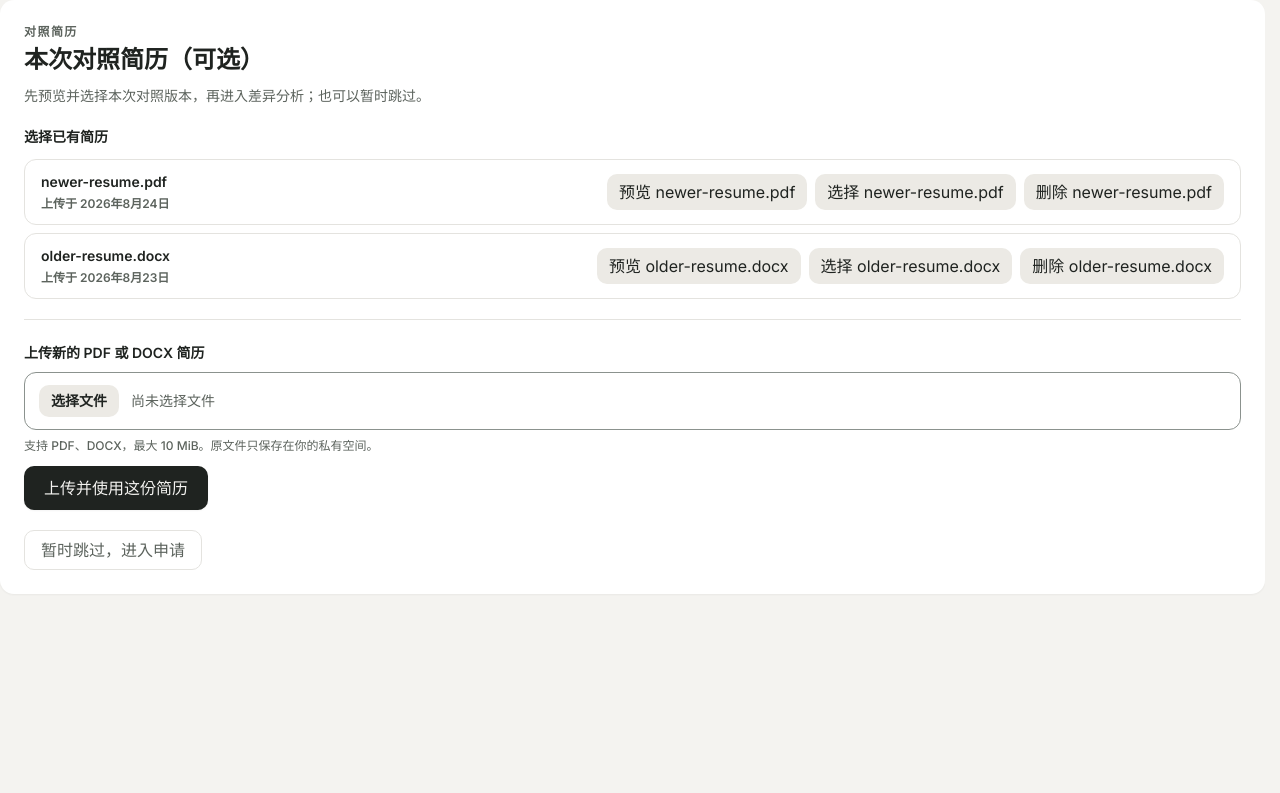
Scenario: BaselineSelector › passes each file's own usage counts into its confirmation
Click the button "删除 older-resume.docx".
click(1122, 266)  # box [1020, 248, 1224, 284]
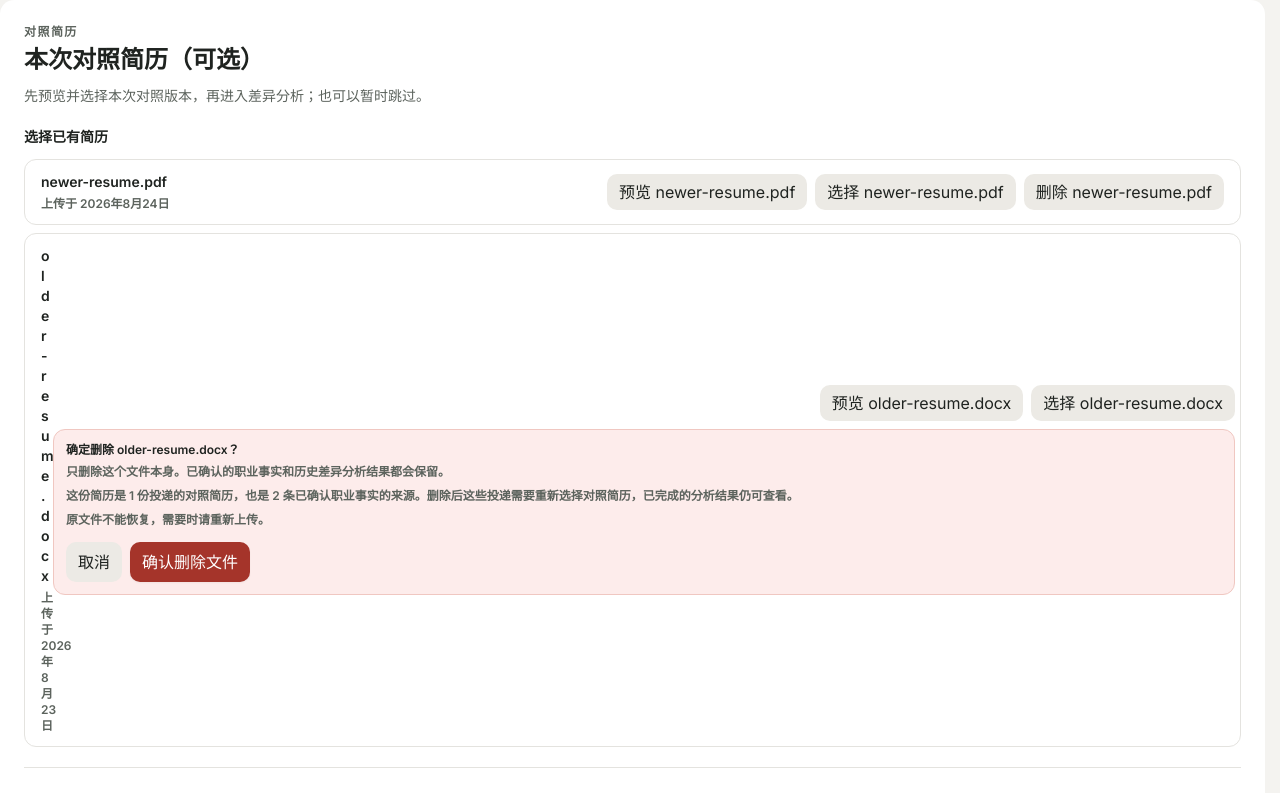
Result: the message shows "这份简历是 1 份投递的对照简历，也是 2 条已确认职业事实的来源。" at [66, 488, 799, 503]
